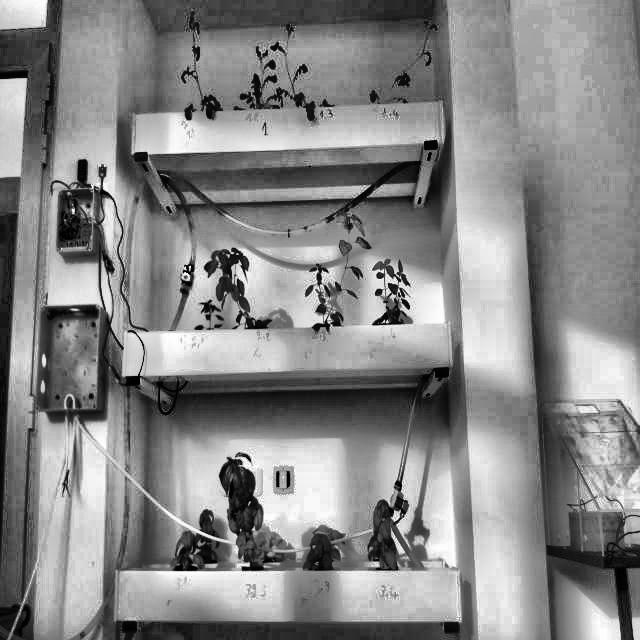plants: (365, 18, 446, 108), (310, 210, 368, 324), (200, 242, 270, 328), (170, 12, 226, 118), (221, 450, 267, 568), (274, 23, 336, 106), (226, 44, 286, 110), (372, 258, 413, 322), (306, 259, 340, 330), (371, 499, 401, 570), (304, 523, 344, 570), (194, 508, 220, 566), (170, 528, 198, 573), (194, 296, 226, 329)
